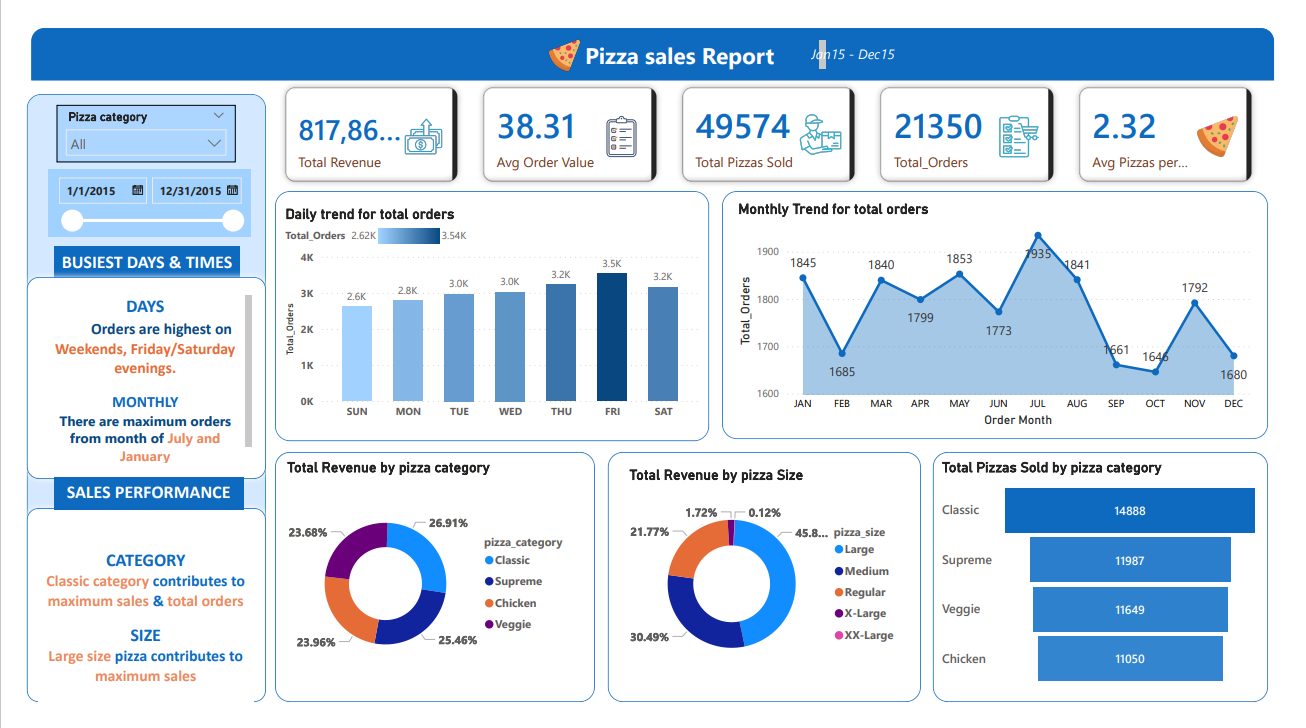

The dashboard page shown, as its layout file describes it:
{"tool":"powerbi","page":{"name":"Pizza Sales Report ","canvas":[1500,820],"ordinal":0},"visuals":[{"type":"cardVisual","fields":{"Data":["pizza_sales.Total Revenue","pizza_sales.Avg Order Value","pizza_sales.Total Pizzas Sold","pizza_sales.Total_Orders","pizza_sales.Avg Pizzas per order"]},"box":[297.5,68.8,1177.5,142.5],"z":0},{"type":"shape","box":[12.5,13.8,1471.2,62.5],"z":1000},{"type":"textbox","box":[611.2,22.5,346.2,45],"z":2000},{"type":"textbox","box":[931.2,28.8,141.2,32.5],"z":3000},{"type":"image","box":[620,17.5,47.5,58.8],"z":4000},{"type":"shape","box":[293.8,198.8,528.8,312.5],"z":5000},{"type":"columnChart","title":"Daily trend for total orders","fields":{"Y":["pizza_sales.Total_Orders"],"Category":["pizza_sales.Order Day"]},"box":[308.8,223.8,500,262.5],"z":6000},{"type":"shape","box":[822.5,198.8,661.2,308.8],"z":7000},{"type":"areaChart","title":"Monthly Trend for total orders","fields":{"Y":["pizza_sales.Total_Orders"],"Category":["pizza_sales.Order Month"]},"box":[845,217.5,615,273.8],"z":8000},{"type":"shape","box":[293.8,507.5,393.8,312.5],"z":9000},{"type":"shape","box":[687.5,507.5,385,312.5],"z":10000},{"type":"shape","box":[1072.5,507.5,411.2,312.5],"z":11000},{"type":"donutChart","title":"Total Revenue by pizza category","fields":{"Category":["pizza_sales.pizza_category"],"Y":["pizza_sales.Total Revenue"]},"box":[311.2,523.8,357.5,278.8],"z":12000},{"type":"donutChart","title":"Total Revenue by pizza Size","fields":{"Y":["pizza_sales.Total Revenue"],"Category":["pizza_sales.pizza_size"]},"box":[716.2,532.5,335,261.2],"z":13000},{"type":"funnel","title":"Total Pizzas Sold by pizza category","fields":{"Category":["pizza_sales.pizza_category"],"Y":["pizza_sales.Total Pizzas Sold"]},"box":[1086.2,523.8,385,278.8],"z":14000},{"type":"shape","box":[0,85,297.5,735],"z":15000},{"type":"textbox","box":[40,272.5,220,37.5],"z":16000},{"type":"shape","box":[0,301.2,297.5,253.8],"z":17000},{"type":"textbox","box":[25,325,253.8,207.5],"z":18000},{"type":"shape","box":[0,575,297.5,245],"z":19000},{"type":"textbox","box":[21.2,608.8,255,211.2],"z":20000},{"type":"textbox","box":[40,546.2,223.8,37.5],"z":21000},{"type":"slicer","title":"Monthly Trend for total orders","fields":{"Values":["pizza_sales.pizza_category"]},"box":[42.5,105,212.5,67.5],"z":21001},{"type":"slicer","fields":{"Values":["pizza_sales.order_date"]},"box":[32.5,181.2,240,80],"z":21002}]}

Visuals, with their boxes in screenshot pixels (x1, y1, x2, y2), scaled from the page's 1500x820 canvas onto the 1306x728 screenshot:
cardVisual - pizza_sales.Total Revenue x pizza_sales.Avg Order Value: BBox(259, 61, 1284, 188)
shape: BBox(11, 12, 1292, 68)
textbox: BBox(532, 20, 834, 60)
textbox: BBox(811, 26, 934, 54)
image: BBox(540, 16, 581, 68)
shape: BBox(256, 176, 716, 454)
"Daily trend for total orders" columnChart: BBox(269, 199, 704, 432)
shape: BBox(716, 176, 1292, 451)
"Monthly Trend for total orders" areaChart: BBox(736, 193, 1271, 436)
shape: BBox(256, 451, 599, 727)
shape: BBox(599, 451, 934, 727)
shape: BBox(934, 451, 1292, 727)
"Total Revenue by pizza category" donutChart: BBox(271, 465, 582, 713)
"Total Revenue by pizza Size" donutChart: BBox(624, 473, 915, 705)
"Total Pizzas Sold by pizza category" funnel: BBox(946, 465, 1281, 713)
shape: BBox(0, 75, 259, 727)
textbox: BBox(35, 242, 226, 275)
shape: BBox(0, 267, 259, 493)
textbox: BBox(22, 289, 243, 473)
shape: BBox(0, 510, 259, 727)
textbox: BBox(18, 540, 240, 727)
textbox: BBox(35, 485, 230, 518)
"Monthly Trend for total orders" slicer: BBox(37, 93, 222, 153)
slicer - pizza_sales.order_date: BBox(28, 161, 237, 232)
